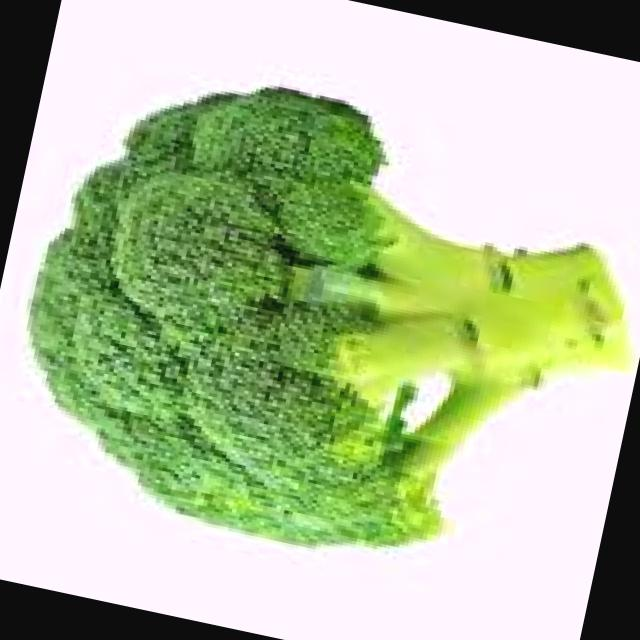organic: (0, 51, 631, 587)
